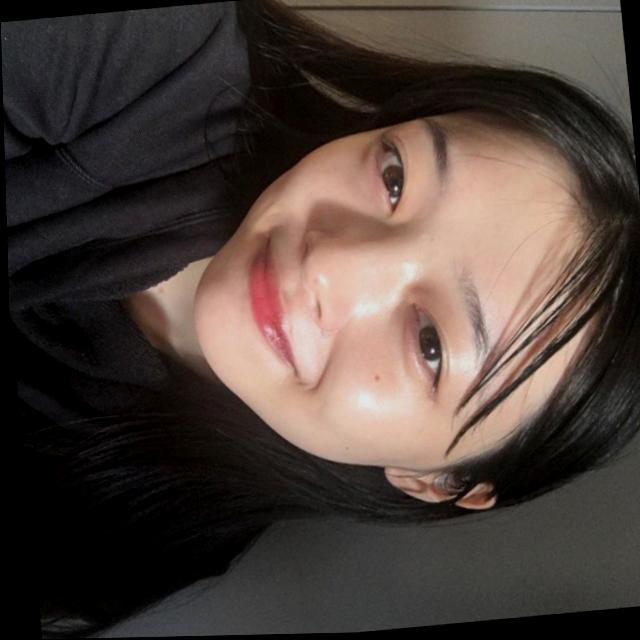face: (167, 97, 594, 483)
